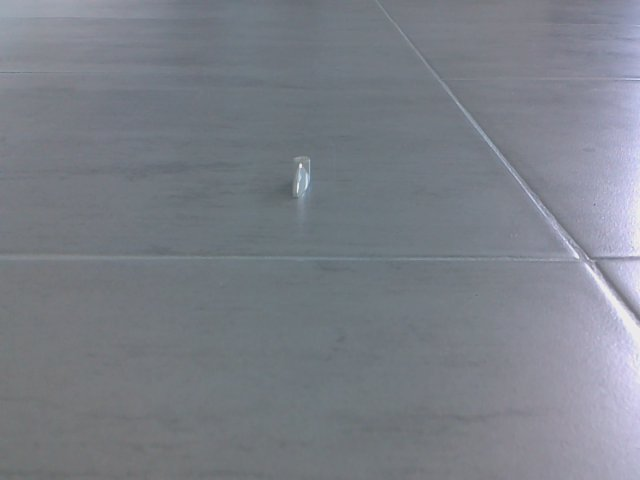Kappe: (284, 148, 316, 205)
